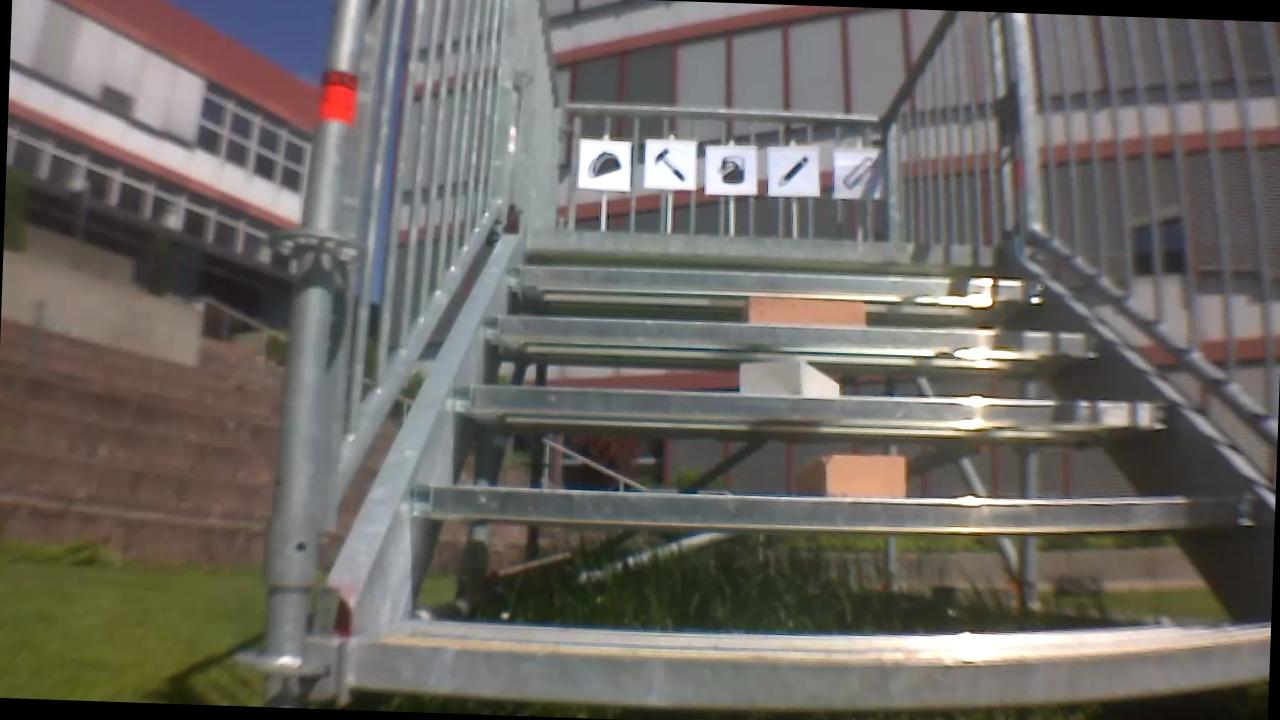brick: (727, 359, 845, 396), (742, 295, 869, 329), (820, 452, 902, 497)
edge: (349, 603, 1270, 717), (407, 465, 1260, 541), (449, 373, 1172, 438), (475, 311, 1102, 367), (499, 257, 1050, 310), (520, 226, 1009, 267)
steps: (328, 221, 1280, 717)
